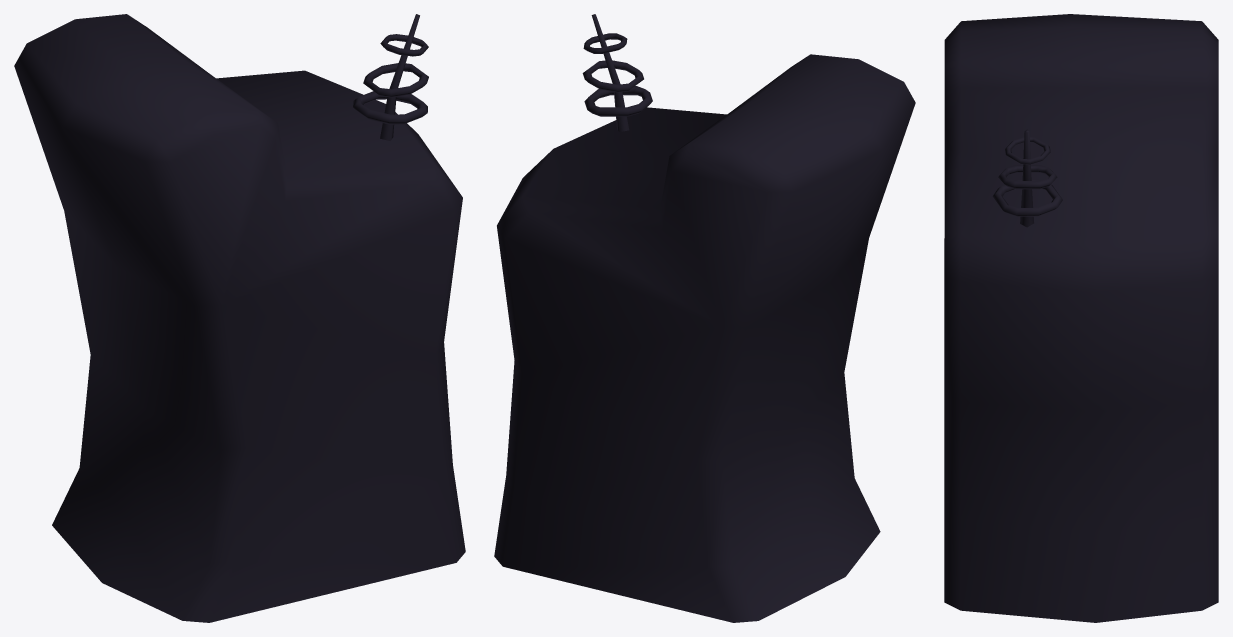
File: Back_Bldg03_Mesh.FBX
3 views of the same model, side by side, from view 1: azimuth 30°, elevation 25°; view 2: azimuth 150°, elevation 25°; view 3: azimuth 270°, elevation 25° (orthographic). The views are drawn at different scales.
Visible parts, largest first — view 1: Back_Bldg03_Mesh; view 2: Back_Bldg03_Mesh; view 3: Back_Bldg03_Mesh.
Part boxes in pixels (bbox=[...]): Back_Bldg03_Mesh: bbox=[14, 14, 465, 622]; Back_Bldg03_Mesh: bbox=[494, 14, 915, 622]; Back_Bldg03_Mesh: bbox=[944, 14, 1218, 622].
Bounding box in the file's own units: 4100 × 5421 × 2838.
